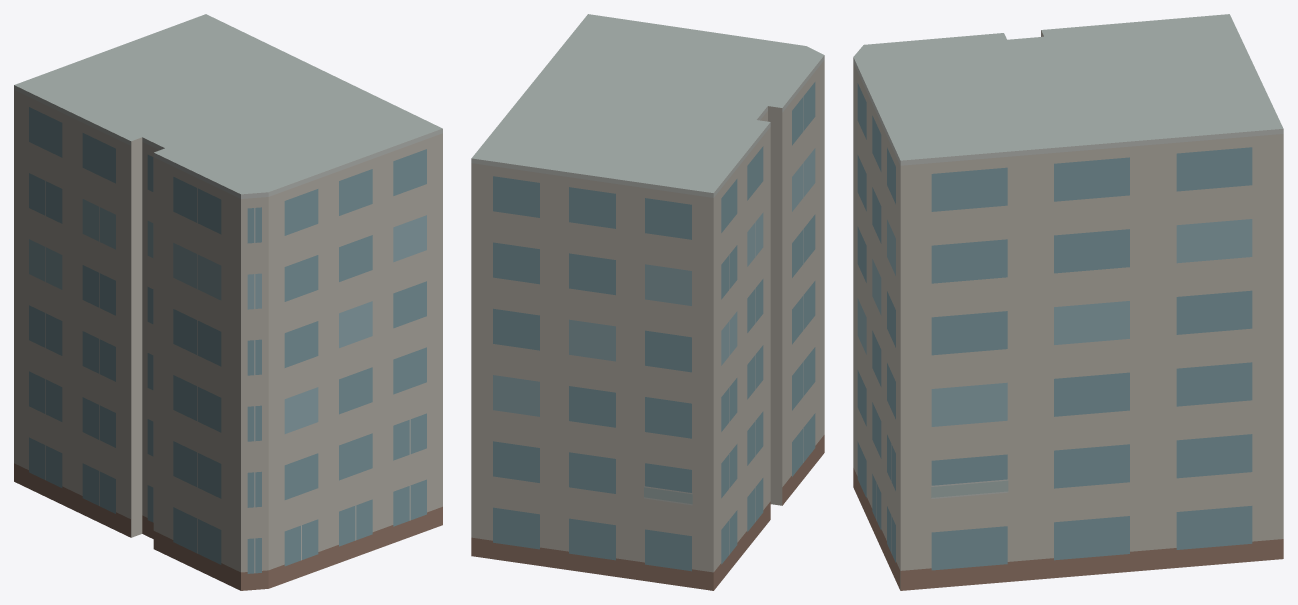
Rendered from survey-upis-32935582.glb.
3 renders of one model, left to right at view 1: azimuth 30°, elevation 25°; view 2: azimuth 150°, elevation 25°; view 3: azimuth 270°, elevation 25°, orthographic. The views are drawn at different scales.
Parts seen in each view (by area): view 1: survey-upis-32935582.tmp; view 2: survey-upis-32935582.tmp; view 3: survey-upis-32935582.tmp.
Boxes of the visible parts, <box> form: survey-upis-32935582.tmp: <box>14,14,442,590</box>; survey-upis-32935582.tmp: <box>471,14,824,590</box>; survey-upis-32935582.tmp: <box>853,14,1283,590</box>.
Bounding box in the file's own units: 15.07 × 20.6 × 18.69.
